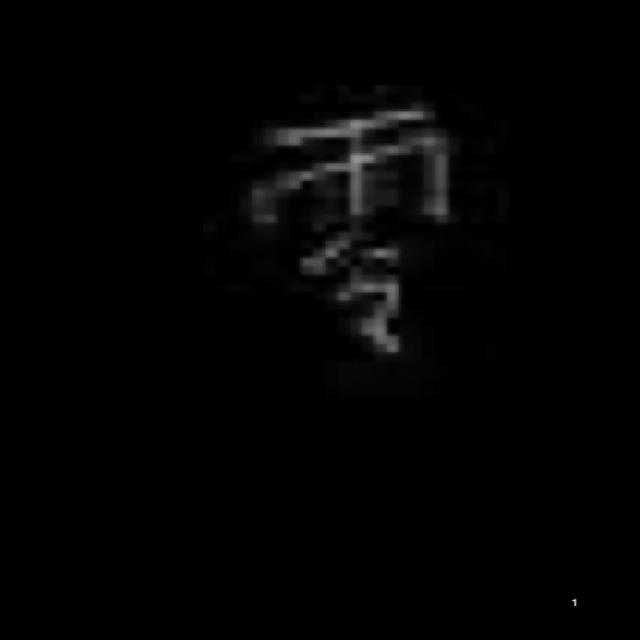0 -zero-: (240, 100, 466, 376)
